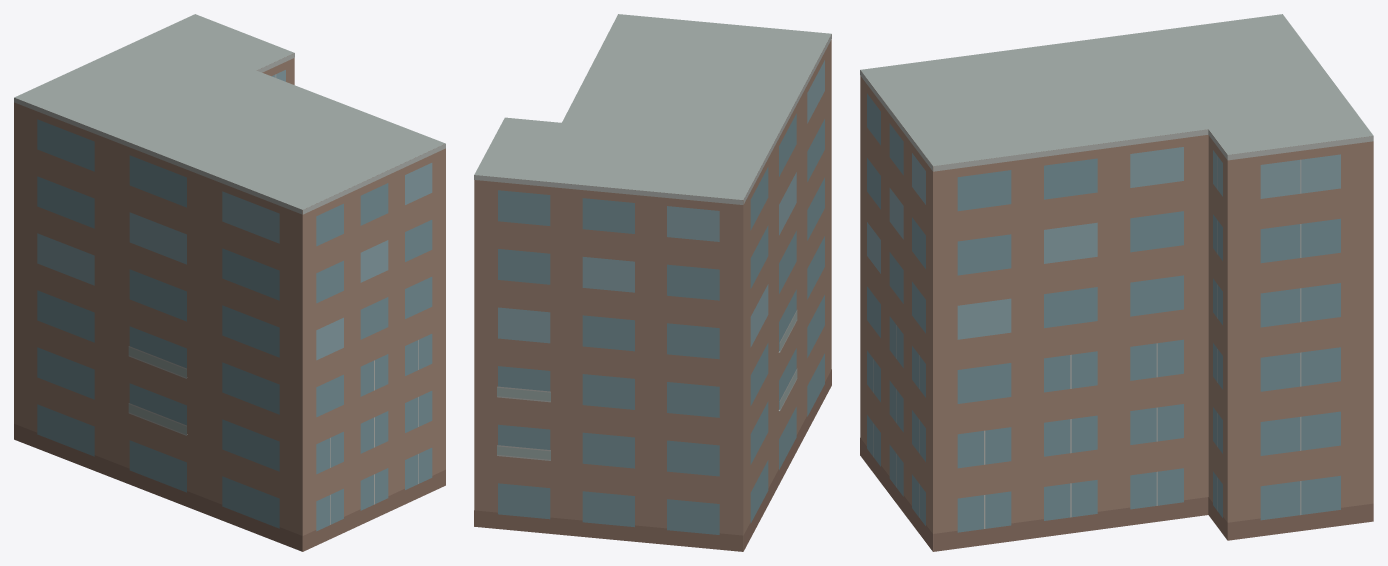
Rendered from survey-upis-32579233.glb.
3 views of the same model, side by side, from view 1: azimuth 30°, elevation 25°; view 2: azimuth 150°, elevation 25°; view 3: azimuth 270°, elevation 25° (orthographic). The views are drawn at different scales.
Visible parts, largest first — view 1: survey-upis-32579233.tmp; view 2: survey-upis-32579233.tmp; view 3: survey-upis-32579233.tmp.
Part boxes in pixels (<box>): survey-upis-32579233.tmp: <box>14,14,445,551</box>; survey-upis-32579233.tmp: <box>474,14,831,551</box>; survey-upis-32579233.tmp: <box>860,14,1373,551</box>.
Size of the model in its own units: 14.66 by 17.3 by 20.89.
